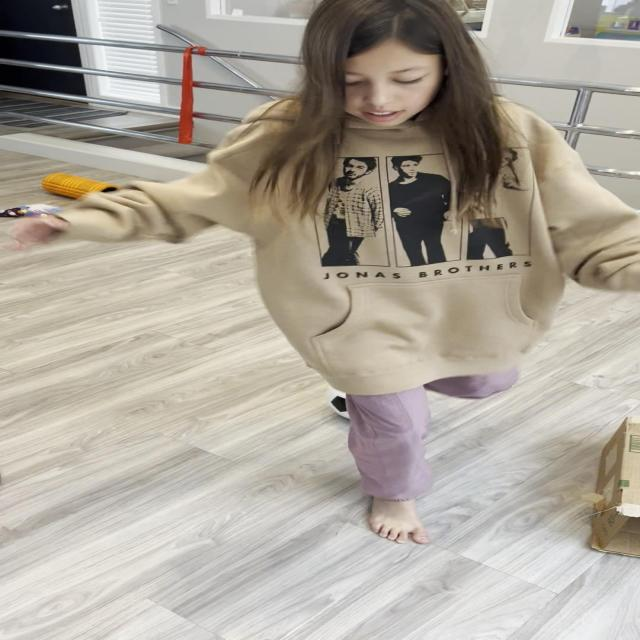Soccer Ball: (322, 376, 404, 420)
